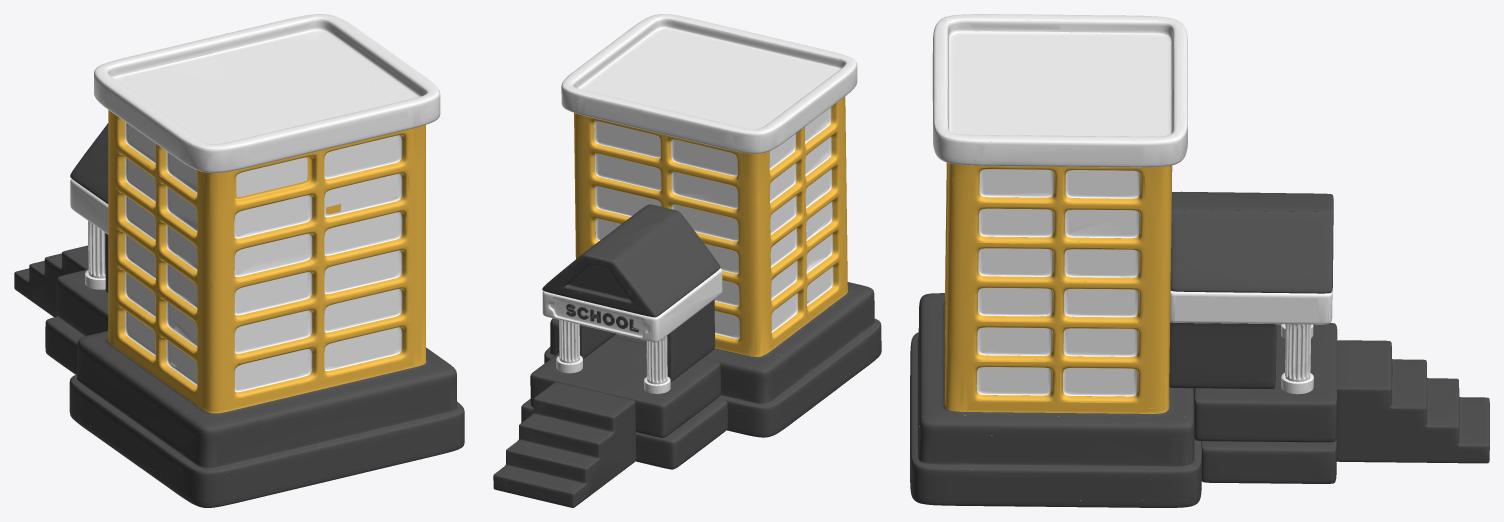
The model's file is School.glb.
3 renders of one model, left to right at view 1: azimuth 30°, elevation 25°; view 2: azimuth 150°, elevation 25°; view 3: azimuth 270°, elevation 25°, orthographic. The views are drawn at different scales.
Parts seen in each view (by area): view 1: Cube.002; view 2: Cube.002; view 3: Cube.002.
Part boxes in pixels (box(x1,y1,x2,y2)): Cube.002: box(14, 14, 464, 507); Cube.002: box(493, 14, 881, 507); Cube.002: box(910, 14, 1489, 507).
Size of the model in its own units: 11.59 by 14.29 by 20.51.
